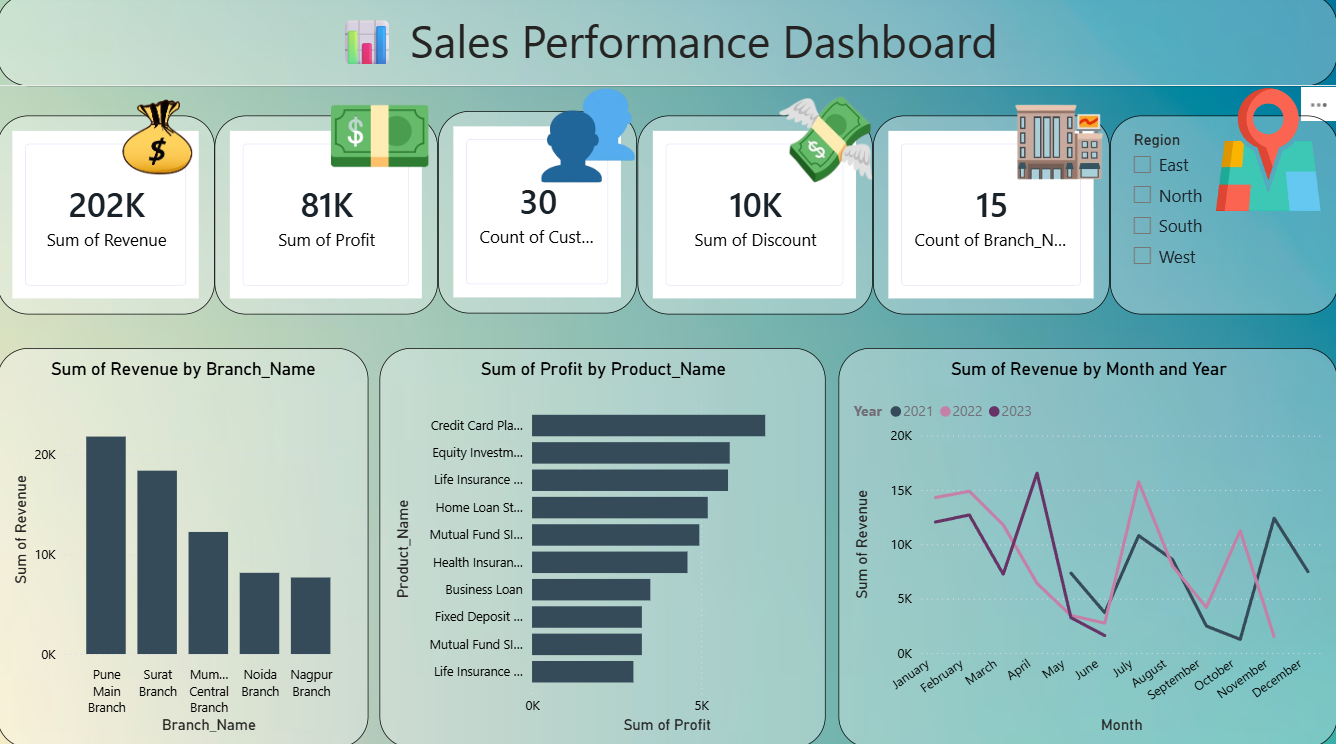

Layout of this report page (visuals, bound fields, positions):
{"tool":"powerbi","page":{"name":"Page 1","canvas":[1280,720],"ordinal":0},"visuals":[{"type":"columnChart","fields":{"Y":["Sum(bank master_sales.Revenue)"],"Category":["bank master_sales.Branch_Name"]},"box":[0,338.3,354.6,382.2],"z":0},{"type":"cardVisual","fields":{"Data":["Sum(bank master_sales.Discount)"]},"box":[611.6,115.5,224.5,190.3],"z":1000},{"type":"cardVisual","fields":{"Data":["Sum(bank master_sales.Profit)"]},"box":[208.2,115.5,213.1,190.3],"z":2000},{"type":"cardVisual","fields":{"Data":["Count(bank master_sales.Customer_Name)"]},"box":[421.3,112.2,190.3,193.6],"z":3000},{"type":"cardVisual","fields":{"Data":["Sum(bank master_sales.Revenue)"]},"box":[0,115.5,208.2,190.3],"z":4000},{"type":"image","box":[78.1,60.2,149.6,156.1],"z":5000},{"type":"image","box":[517.2,86.2,94.3,99.2],"z":6000},{"type":"image","box":[315.5,86.2,100.8,99.2],"z":7000},{"type":"image","box":[709.2,91.1,165.9,94.3],"z":8000},{"type":"cardVisual","fields":{"Data":["Count(bank master_sales.Branch_Name)"]},"box":[836,115.5,226.1,190.3],"z":9000},{"type":"image","box":[915.7,35.8,198.4,201.7],"z":10000},{"type":"textbox","box":[0,0,1280.1,87.8],"z":11000},{"type":"clusteredBarChart","fields":{"Category":["bank master_sales.Product_Name"],"Y":["Sum(bank master_sales.Profit)"]},"box":[366,338.3,426.2,382.2],"z":12000},{"type":"slicer","fields":{"Values":["bank master_sales.Region"]},"box":[1062.1,115.5,218,190.3],"z":13000},{"type":"image","box":[1146.7,79.7,133.4,136.6],"z":14000},{"type":"lineChart","fields":{"Category":["bank master_sales.join_date.Variation.Date Hierarchy.Month"],"Y":["Sum(bank master_sales.Revenue)"],"Series":["bank master_sales.join_date.Variation.Date Hierarchy.Year"]},"box":[803.5,338.3,476.6,382.2],"z":15000}]}

Visuals, with their boxes in screenshot pixels (x1, y1, x2, y2), scaled from the page's 1280x720 canvas onto the 1336x744 screenshot:
columnChart - Sum(bank master_sales.Revenue) x bank master_sales.Branch_Name: <box>0,350,370,743</box>
cardVisual - Sum(bank master_sales.Discount): <box>638,119,873,316</box>
cardVisual - Sum(bank master_sales.Profit): <box>217,119,440,316</box>
cardVisual - Count(bank master_sales.Customer_Name): <box>440,116,638,316</box>
cardVisual - Sum(bank master_sales.Revenue): <box>0,119,217,316</box>
image: <box>82,62,238,224</box>
image: <box>540,89,638,192</box>
image: <box>329,89,435,192</box>
image: <box>740,94,913,192</box>
cardVisual - Count(bank master_sales.Branch_Name): <box>873,119,1109,316</box>
image: <box>956,37,1163,245</box>
textbox: <box>0,0,1335,91</box>
clusteredBarChart - bank master_sales.Product_Name x Sum(bank master_sales.Profit): <box>382,350,827,743</box>
slicer - bank master_sales.Region: <box>1109,119,1335,316</box>
image: <box>1197,82,1335,224</box>
lineChart - bank master_sales.join_date.Variation.Date Hierarchy.Month x Sum(bank master_sales.Revenue): <box>839,350,1335,743</box>
